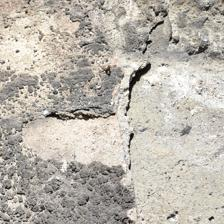Crack: (0, 57, 136, 129), (42, 11, 131, 99)
